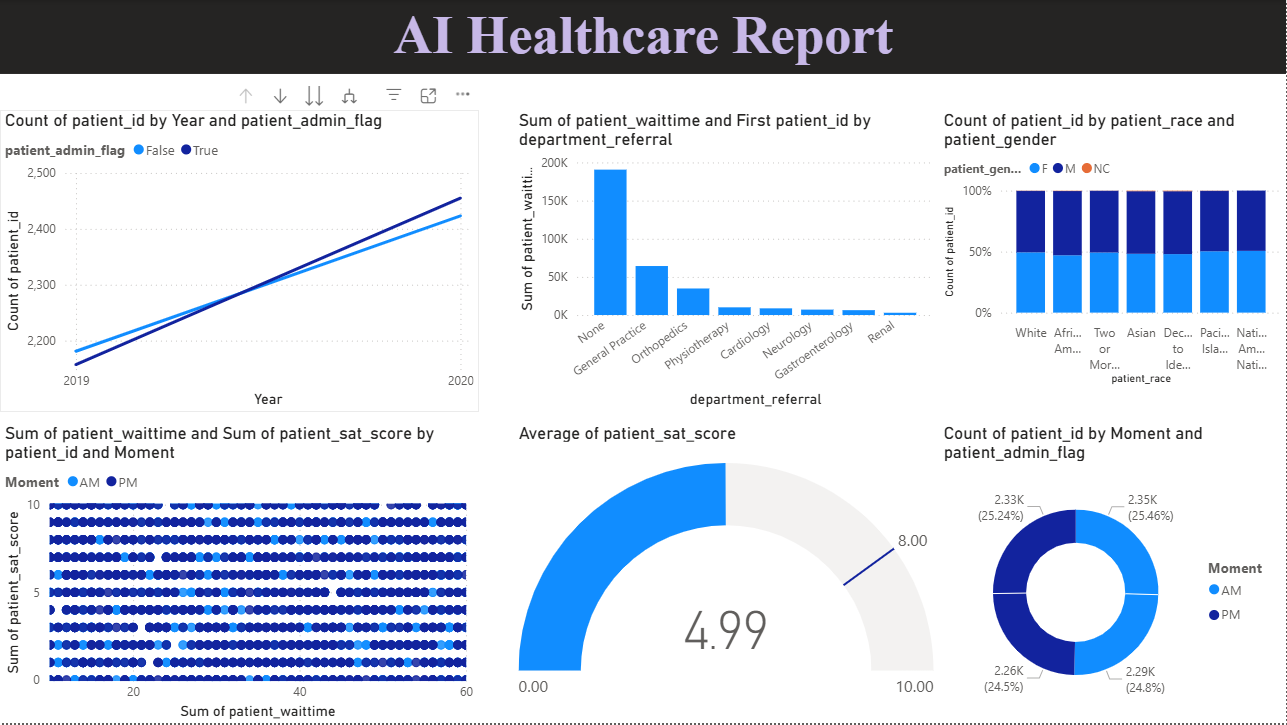

The dashboard page shown, as its layout file describes it:
{"tool":"powerbi","page":{"name":"Page 1","canvas":[1280,720],"ordinal":0},"visuals":[{"type":"lineChart","fields":{"Category":["Sheet1.date.Variation.Date Hierarchy.Year","Sheet1.date.Variation.Date Hierarchy.Quarter","Sheet1.date.Variation.Date Hierarchy.Month","Sheet1.date.Variation.Date Hierarchy.Day"],"Y":["CountNonNull(Sheet1.patient_id)"],"Series":["Sheet1.patient_admin_flag"]},"box":[0,109.5,476.4,301],"z":0},{"type":"clusteredColumnChart","fields":{"Category":["Sheet1.department_referral"],"Y":["Sum(Sheet1.patient_waittime)"]},"box":[511.3,109.5,422.9,301],"z":1000},{"type":"hundredPercentStackedColumnChart","fields":{"Category":["Sheet1.patient_race"],"Y":["CountNonNull(Sheet1.patient_id)"],"Series":["Sheet1.patient_gender"]},"box":[934.2,109.5,345.8,278.6],"z":2000},{"type":"scatterChart","fields":{"Category":["Sheet1.patient_id"],"Y":["Sum(Sheet1.patient_sat_score)"],"X":["Sum(Sheet1.patient_waittime)"],"Series":["Sheet1.Moment"]},"box":[0,420,476,300],"z":3000},{"type":"donutChart","fields":{"Category":["Sheet1.Moment"],"Y":["CountNonNull(Sheet1.patient_id)"],"Series":["Sheet1.patient_admin_flag"]},"box":[934,420,346,300],"z":4000},{"type":"gauge","fields":{"Y":["Avg(Sheet1.patient_sat_score)"]},"box":[511,420,423,300],"z":5000},{"type":"textbox","box":[0,0,1280,73.4],"z":6000}]}

Visuals, with their boxes in screenshot pixels (x1, y1, x2, y2), scaled from the page's 1280x720 canvas onto the 1287x725 screenshot:
lineChart - Sheet1.date.Variation.Date Hierarchy.Year x Sheet1.date.Variation.Date Hierarchy.Quarter: x1=0 y1=110 x2=479 y2=413
clusteredColumnChart - Sheet1.department_referral x Sum(Sheet1.patient_waittime): x1=514 y1=110 x2=939 y2=413
hundredPercentStackedColumnChart - Sheet1.patient_race x CountNonNull(Sheet1.patient_id): x1=939 y1=110 x2=1286 y2=391
scatterChart - Sheet1.patient_id x Sum(Sheet1.patient_sat_score): x1=0 y1=423 x2=479 y2=724
donutChart - Sheet1.Moment x CountNonNull(Sheet1.patient_id): x1=939 y1=423 x2=1286 y2=724
gauge - Avg(Sheet1.patient_sat_score): x1=514 y1=423 x2=939 y2=724
textbox: x1=0 y1=0 x2=1286 y2=74
